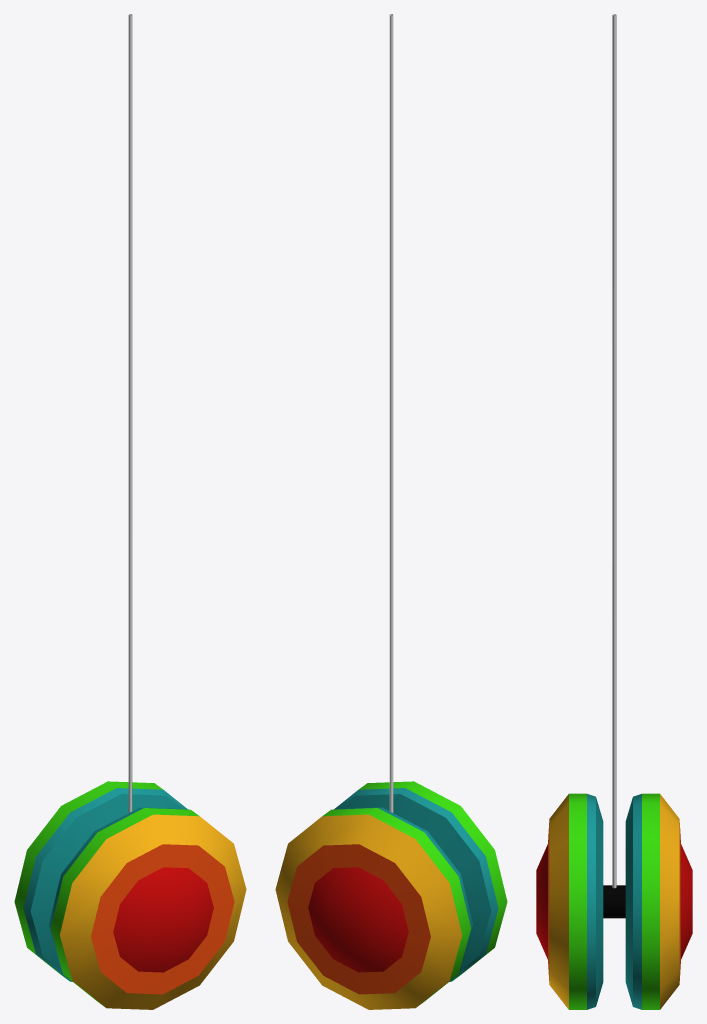
The model's file is Yoyo_V3.FBX.
3 renders of one model, left to right at view 1: azimuth 30°, elevation 25°; view 2: azimuth 150°, elevation 25°; view 3: azimuth 270°, elevation 25°, orthographic.
Parts seen in each view (by area): view 1: OilTank017, Cylinder090; view 2: OilTank017, Cylinder090; view 3: OilTank017, Cylinder090.
Part boxes in pixels (x1=…): OilTank017: x1=14, y1=781, x2=246, y2=1009; Cylinder090: x1=128, y1=14, x2=132, y2=812; OilTank017: x1=275, y1=781, x2=507, y2=1009; Cylinder090: x1=389, y1=14, x2=393, y2=812; OilTank017: x1=536, y1=793, x2=692, y2=1009; Cylinder090: x1=612, y1=14, x2=616, y2=888.
Bounding box in the file's own units: 105 × 528 × 75.99.
